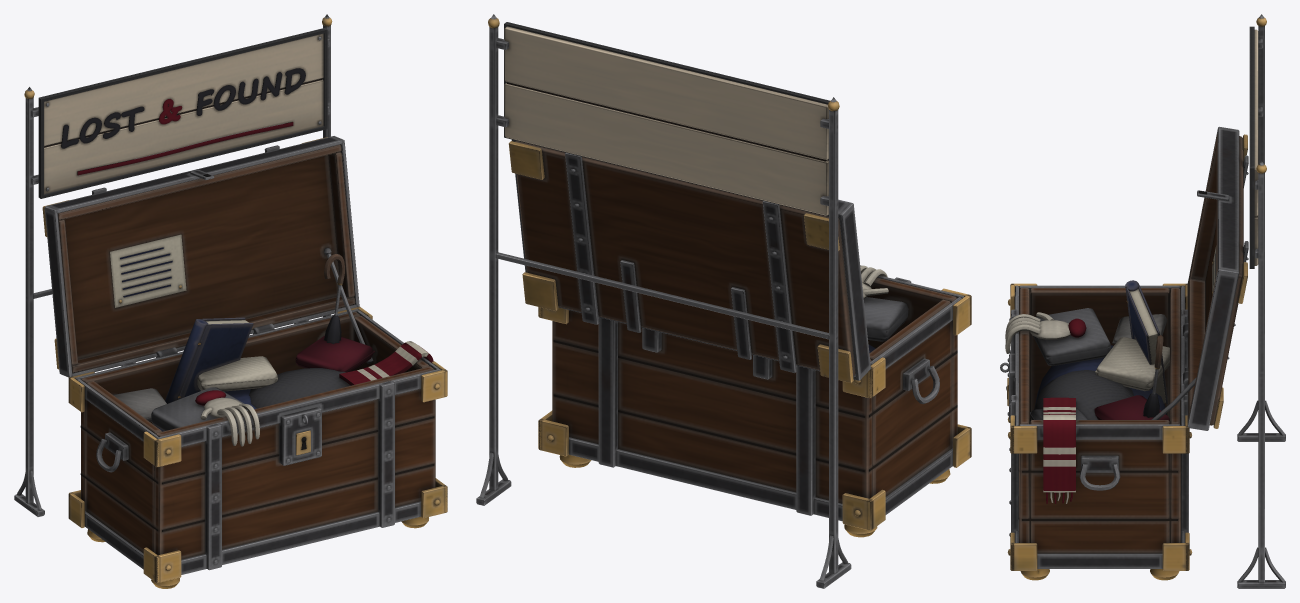
The model's file is LostFoundBox.fbx.
The picture shows the model from 3 angles, left to right: view 1: azimuth 30°, elevation 25°; view 2: azimuth 150°, elevation 25°; view 3: azimuth 270°, elevation 25°; orthographic projection. The views are drawn at different scales.
Parts seen in each view (by area): view 1: LostFoundBox; view 2: LostFoundBox; view 3: LostFoundBox.
Part boxes in pixels (bbox=[...]): LostFoundBox: bbox=[14, 14, 447, 588]; LostFoundBox: bbox=[476, 14, 971, 588]; LostFoundBox: bbox=[1000, 14, 1285, 588].
Size of the model in its own units: 268 by 349 by 212.
